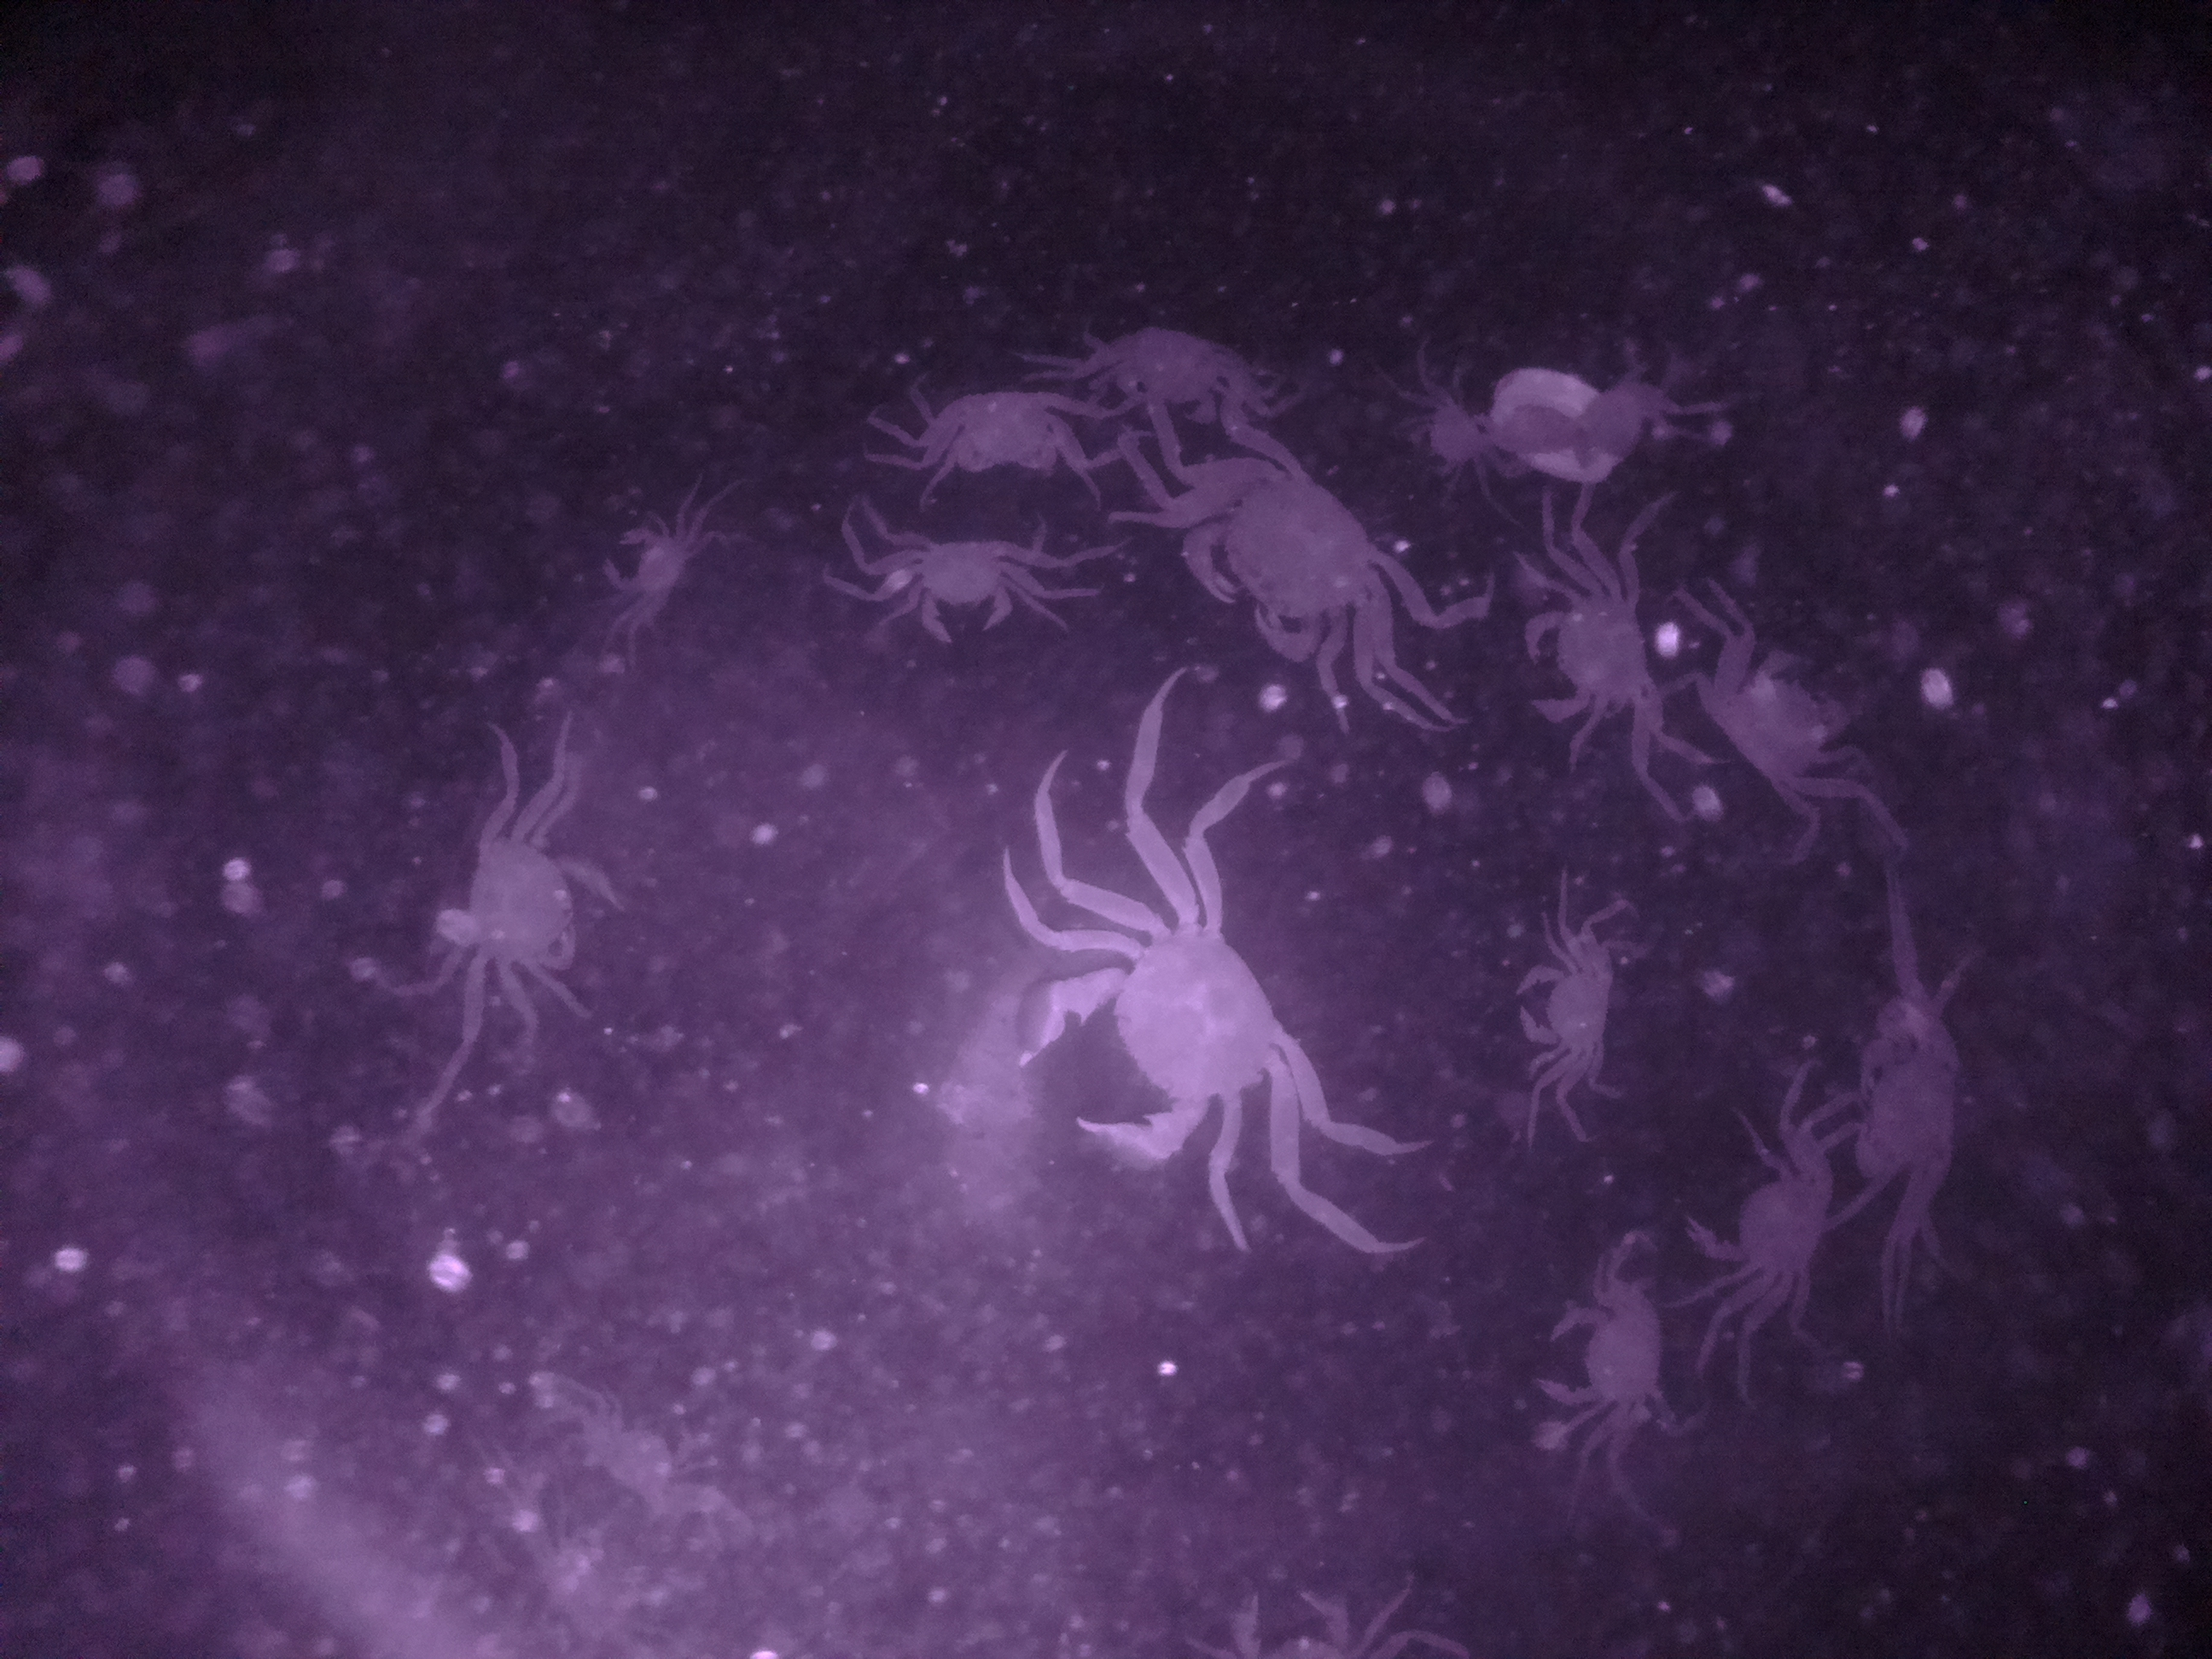Crab: (996, 915, 1313, 1182), (1162, 425, 1416, 674), (448, 795, 615, 1007), (1512, 556, 1676, 758), (1689, 629, 1858, 810), (1684, 1112, 1841, 1307), (1527, 1277, 1677, 1441), (880, 518, 1054, 648), (918, 378, 1096, 495), (1503, 924, 1627, 1089), (596, 497, 704, 617)
